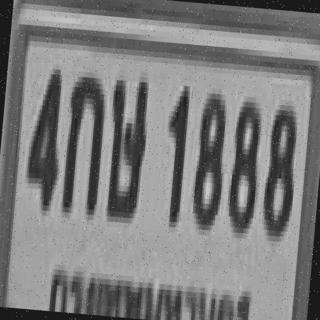A01: (60, 71, 106, 210)
A39: (101, 69, 150, 219)
N01: (159, 80, 189, 222)
N04: (22, 62, 65, 206)
N08: (259, 99, 299, 237), (190, 87, 228, 226), (226, 95, 262, 228)
